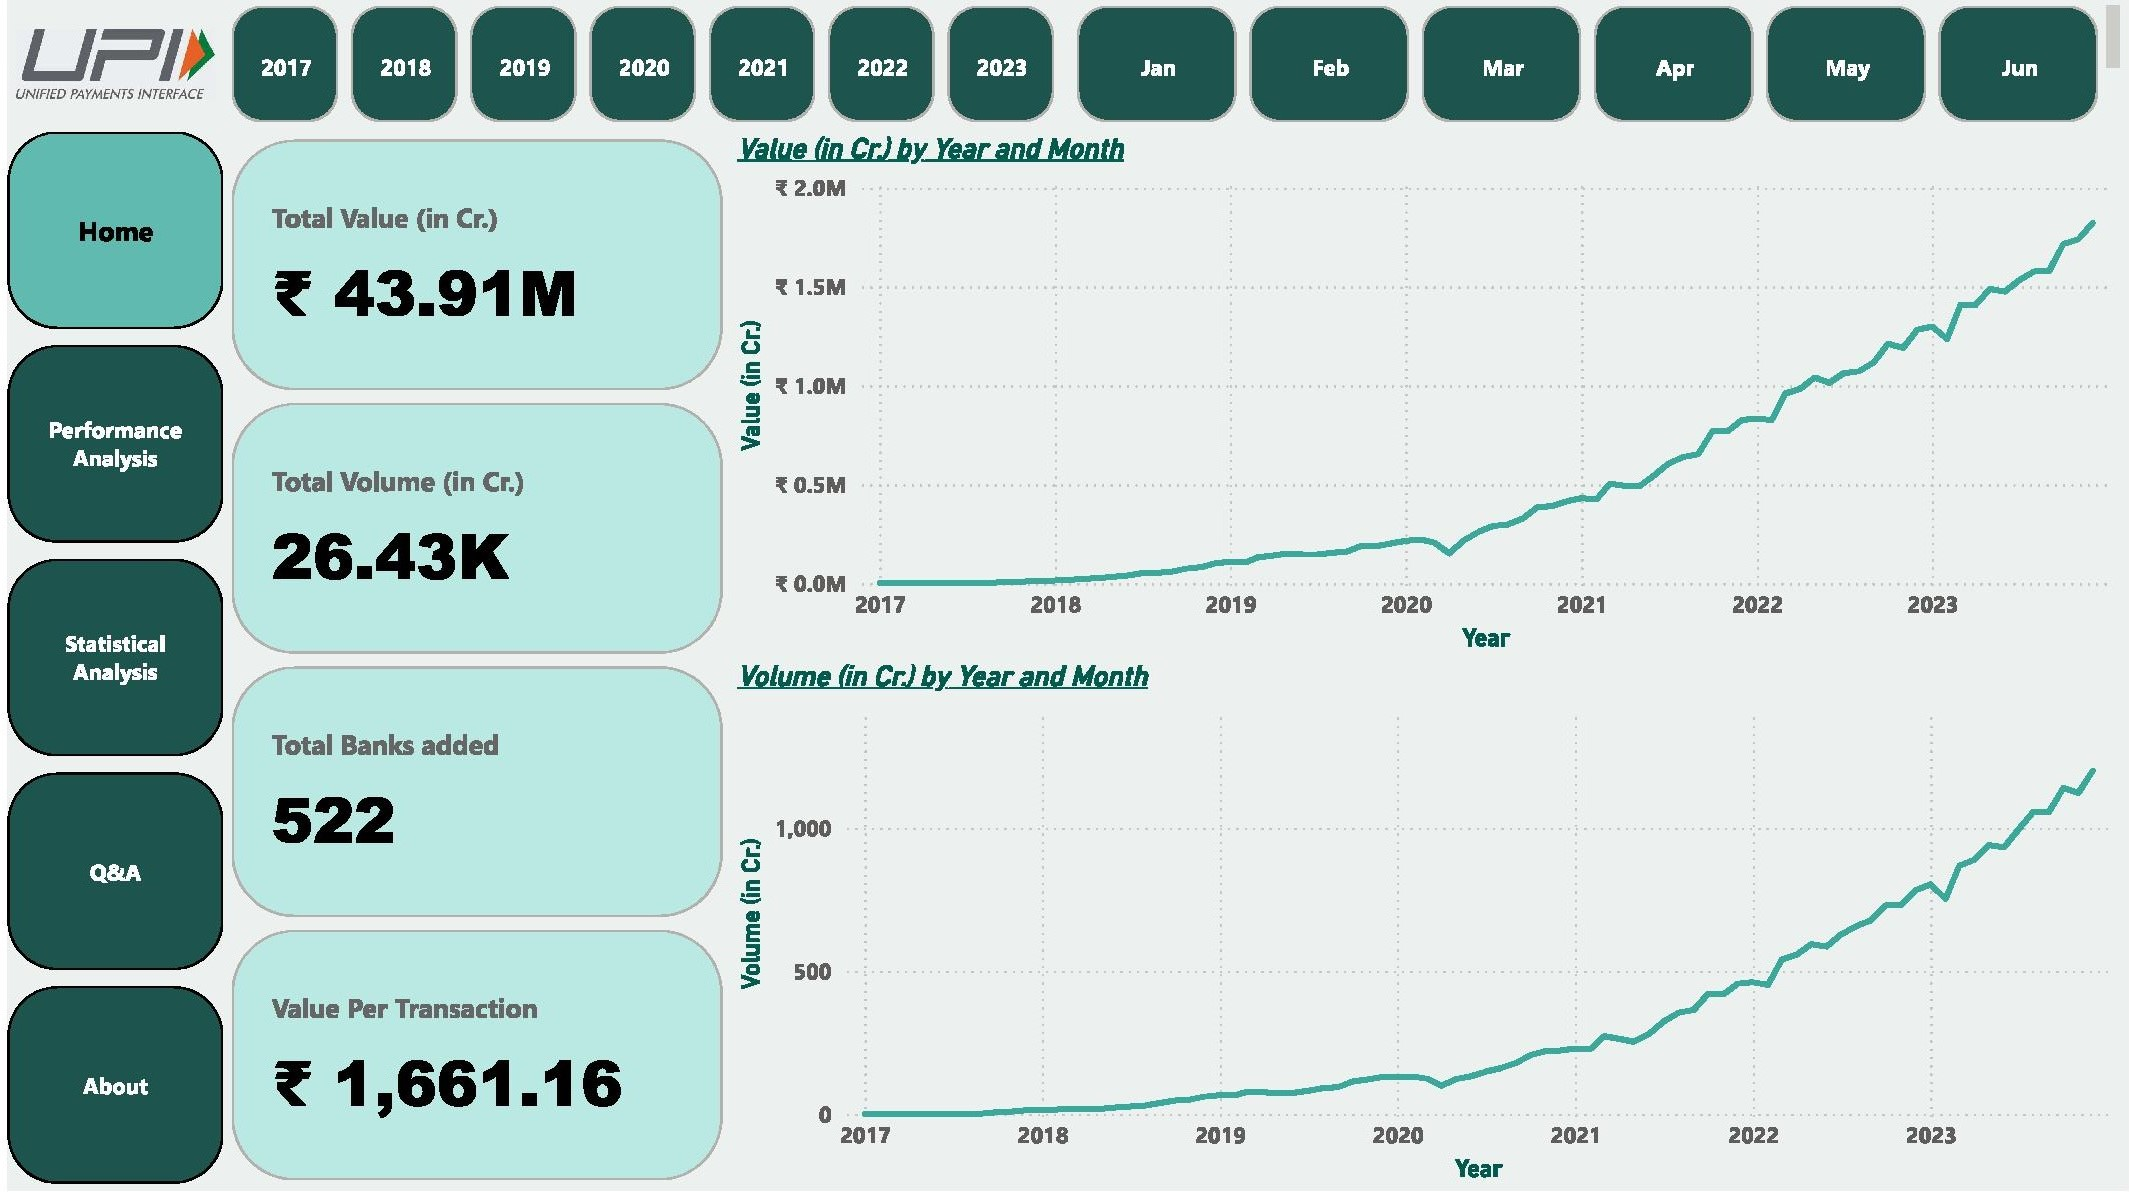

What the dashboard file says about the page in this screenshot:
{"tool":"powerbi","page":{"name":"Home","canvas":[1280,720],"ordinal":0},"visuals":[{"type":"pageNavigator","box":[0,80.8,130.3,639.4],"z":0},{"type":"advancedSlicerVisual","fields":{"Values":["UPI Data.Month.Variation.Date Hierarchy.Year"]},"box":[130.3,0,510.2,80.8],"z":1000},{"type":"image","box":[0,0,130.3,80.8],"z":2000},{"type":"lineChart","fields":{"Y":["Sum(Table1.Value (in Cr.))"],"Category":["UPI Data.Month.Variation.Date Hierarchy.Year","UPI Data.Month.Variation.Date Hierarchy.Month"]},"box":[435.7,80.8,844,318.9],"z":3000},{"type":"lineChart","fields":{"Y":["Sum(UPI Data.Volume (in Cr.))"],"Category":["UPI Data.Month.Variation.Date Hierarchy.Year","UPI Data.Month.Variation.Date Hierarchy.Month"]},"box":[435.4,399.2,844.2,320.8],"z":4000},{"type":"cardVisual","fields":{"Data":["Sum(UPI Data.Value (in Cr.))","Sum(UPI Data.Volume (in Cr.))","UPI Data.number of banks added each month","UPI Data.Value Per Transaction"]},"box":[130.3,80.8,306.3,639.2],"z":5000},{"type":"advancedSlicerVisual","fields":{"Values":["Date Table.Month Short"]},"box":[640.4,0,639.2,80.8],"z":6000}]}

Visuals, with their boxes in screenshot pixels (x1, y1, x2, y2), scaled from the page's 1280x720 canvas onto the 2129x1195 screenshot:
pageNavigator: (left=0, top=134, right=217, bottom=1194)
advancedSlicerVisual - UPI Data.Month.Variation.Date Hierarchy.Year: (left=217, top=0, right=1065, bottom=134)
image: (left=0, top=0, right=217, bottom=134)
lineChart - Sum(Table1.Value (in Cr.)) x UPI Data.Month.Variation.Date Hierarchy.Year: (left=725, top=134, right=2128, bottom=663)
lineChart - Sum(UPI Data.Volume (in Cr.)) x UPI Data.Month.Variation.Date Hierarchy.Year: (left=724, top=663, right=2128, bottom=1194)
cardVisual - Sum(UPI Data.Value (in Cr.)) x Sum(UPI Data.Volume (in Cr.)): (left=217, top=134, right=726, bottom=1194)
advancedSlicerVisual - Date Table.Month Short: (left=1065, top=0, right=2128, bottom=134)
